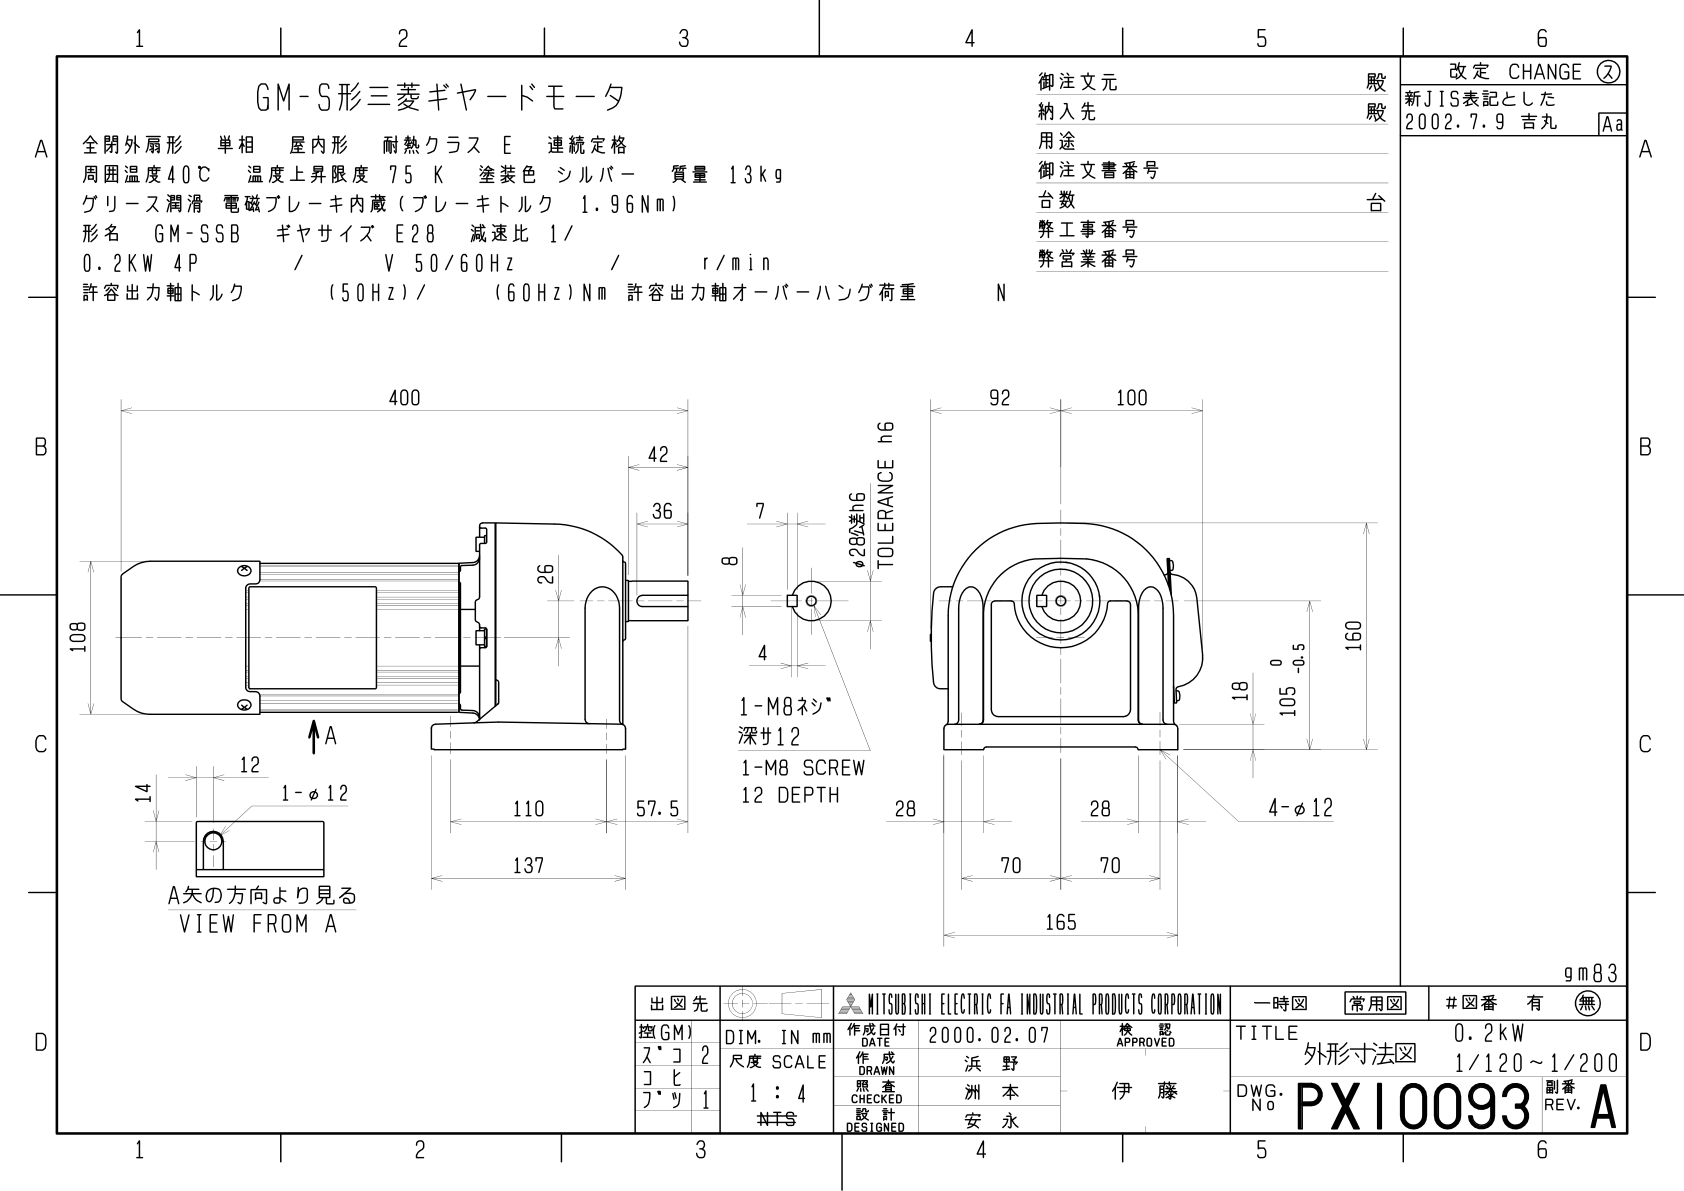GM_S_屋内＿単相_脚: (12, 15, 1684, 1191)
